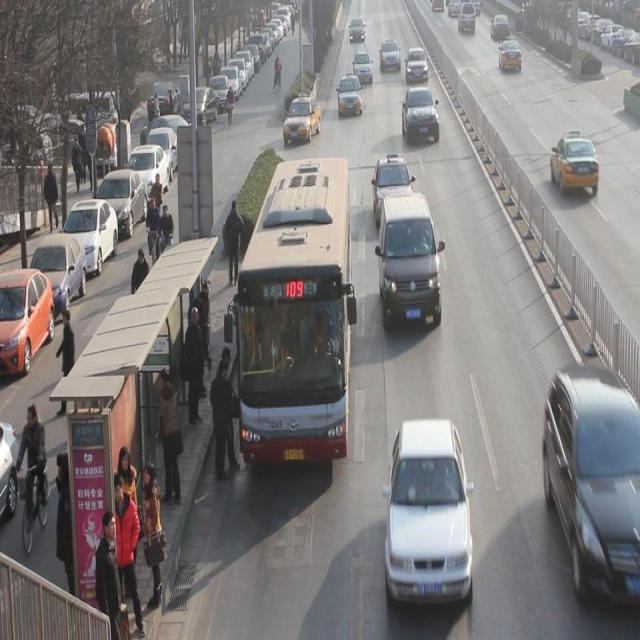car: (542, 365, 640, 608), (387, 417, 472, 602), (550, 130, 600, 194), (374, 154, 414, 219), (402, 85, 439, 146), (284, 96, 322, 143), (338, 74, 362, 117), (498, 36, 523, 72), (405, 47, 428, 83), (380, 40, 401, 72), (353, 51, 373, 84)
truck: (378, 192, 442, 327)
van: (234, 157, 349, 457)
